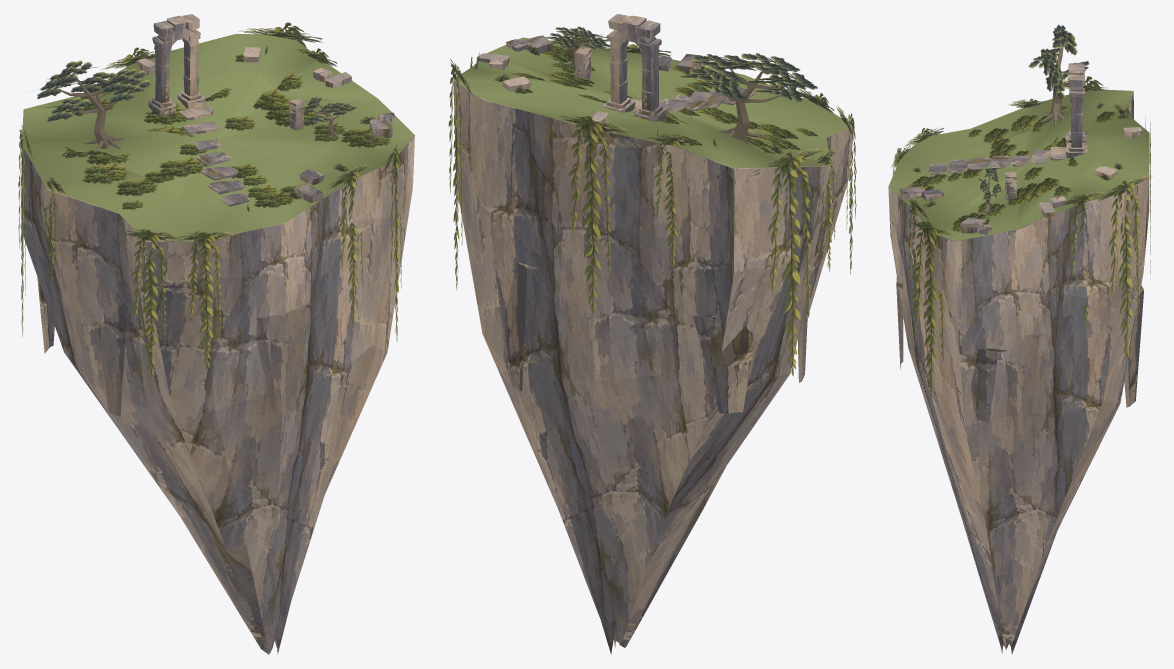
File: crown-wall.glb
3 renders of one model, left to right at view 1: azimuth 30°, elevation 25°; view 2: azimuth 150°, elevation 25°; view 3: azimuth 270°, elevation 25°, orthographic. The views are drawn at different scales.
Visible parts, largest first — view 1: crown-wall-continuous-fractured-stone, crown-wall-summit-soil-and-bent-trunks, crown-wall-ruins-path-and-splintered-ledges, crown-wall-painted-pine-ivy-and-moss, crown-wall-long-hanging-vine-quads; view 2: crown-wall-continuous-fractured-stone, crown-wall-summit-soil-and-bent-trunks, crown-wall-ruins-path-and-splintered-ledges, crown-wall-long-hanging-vine-quads, crown-wall-painted-pine-ivy-and-moss; view 3: crown-wall-continuous-fractured-stone, crown-wall-summit-soil-and-bent-trunks, crown-wall-ruins-path-and-splintered-ledges, crown-wall-painted-pine-ivy-and-moss, crown-wall-long-hanging-vine-quads.
Part boxes in pixels (x1,y1,x2,y2): crown-wall-continuous-fractured-stone: (21,135,414,654); crown-wall-summit-soil-and-bent-trunks: (22,34,414,241); crown-wall-ruins-path-and-splintered-ledges: (37,14,395,416); crown-wall-painted-pine-ivy-and-moss: (21,28,398,240); crown-wall-long-hanging-vine-quads: (18,22,401,379); crown-wall-continuous-fractured-stone: (453,79,853,654); crown-wall-summit-soil-and-bent-trunks: (454,35,852,168); crown-wall-ruins-path-and-splintered-ledges: (476,14,809,413); crown-wall-long-hanging-vine-quads: (448,28,856,375); crown-wall-painted-pine-ivy-and-moss: (450,26,853,175); crown-wall-continuous-fractured-stone: (888,92,1149,653); crown-wall-summit-soil-and-bent-trunks: (888,39,1149,241); crown-wall-ruins-path-and-splintered-ledges: (896,63,1143,434); crown-wall-painted-pine-ivy-and-moss: (891,24,1152,235); crown-wall-long-hanging-vine-quads: (892,76,1150,399).
Bounding box in the file's own units: 26.68 × 46.82 × 20.61.
Materials: 4 (3 with a texture image).
